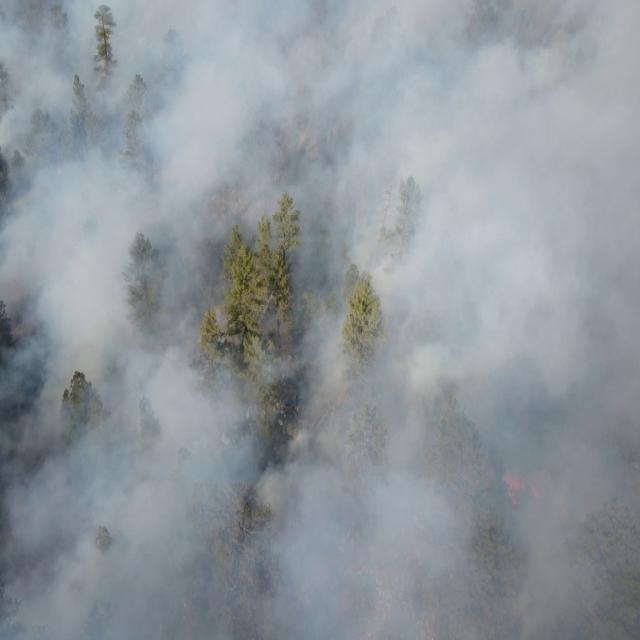fire: (499, 471, 544, 514), (330, 389, 348, 410), (554, 504, 568, 525)
smoke: (1, 0, 640, 640)
